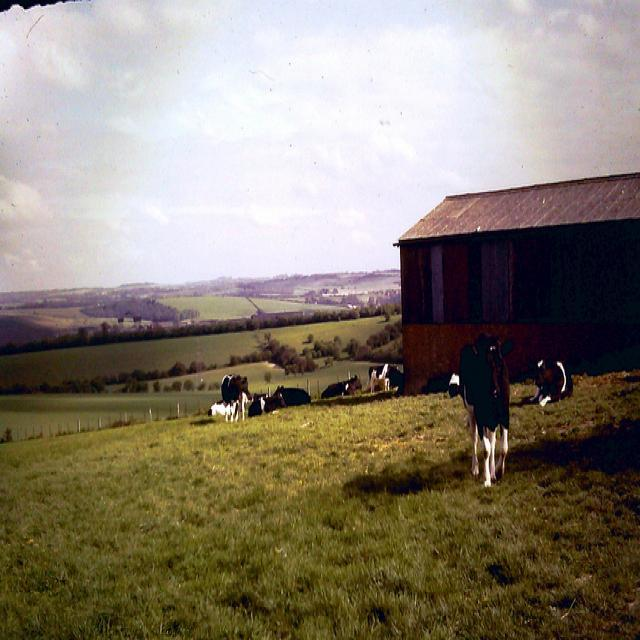cow: (456, 333, 514, 487), (528, 357, 572, 405), (220, 369, 252, 421), (320, 372, 360, 399), (365, 361, 398, 391), (277, 384, 310, 405), (261, 385, 285, 409), (383, 366, 402, 390), (247, 396, 263, 415), (206, 400, 223, 414)
